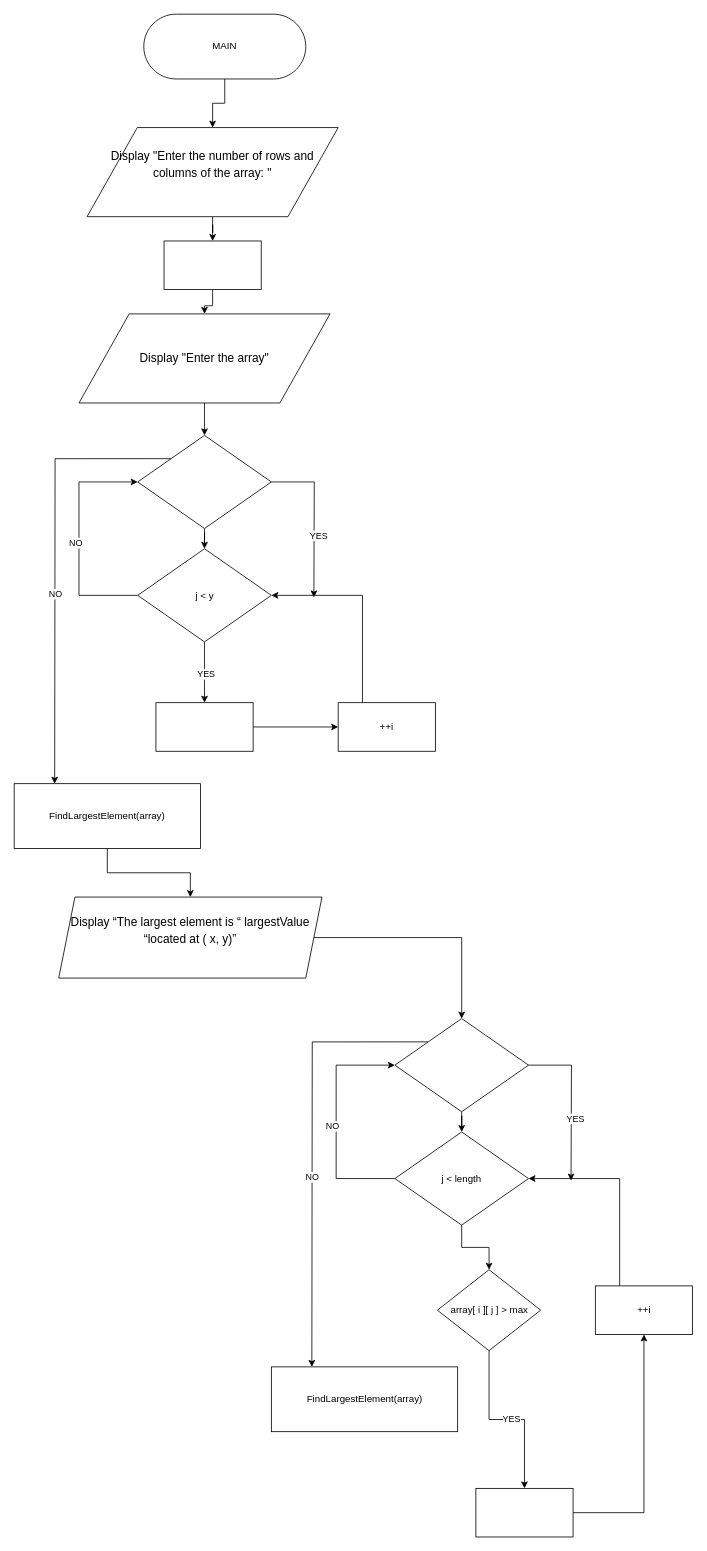
Image size: 707x1551. Some labels were removed from this diagram. Here are the shapes that lost their labels. From the top down, the centre of each, then its label:
point (212, 265): x = input y = input array [][]
point (204, 482): i < x
point (204, 726): array [ i ][ j ] = input
point (461, 1065): i < length
point (524, 1512): max = array [ i ][ j ] x = i, y = j
